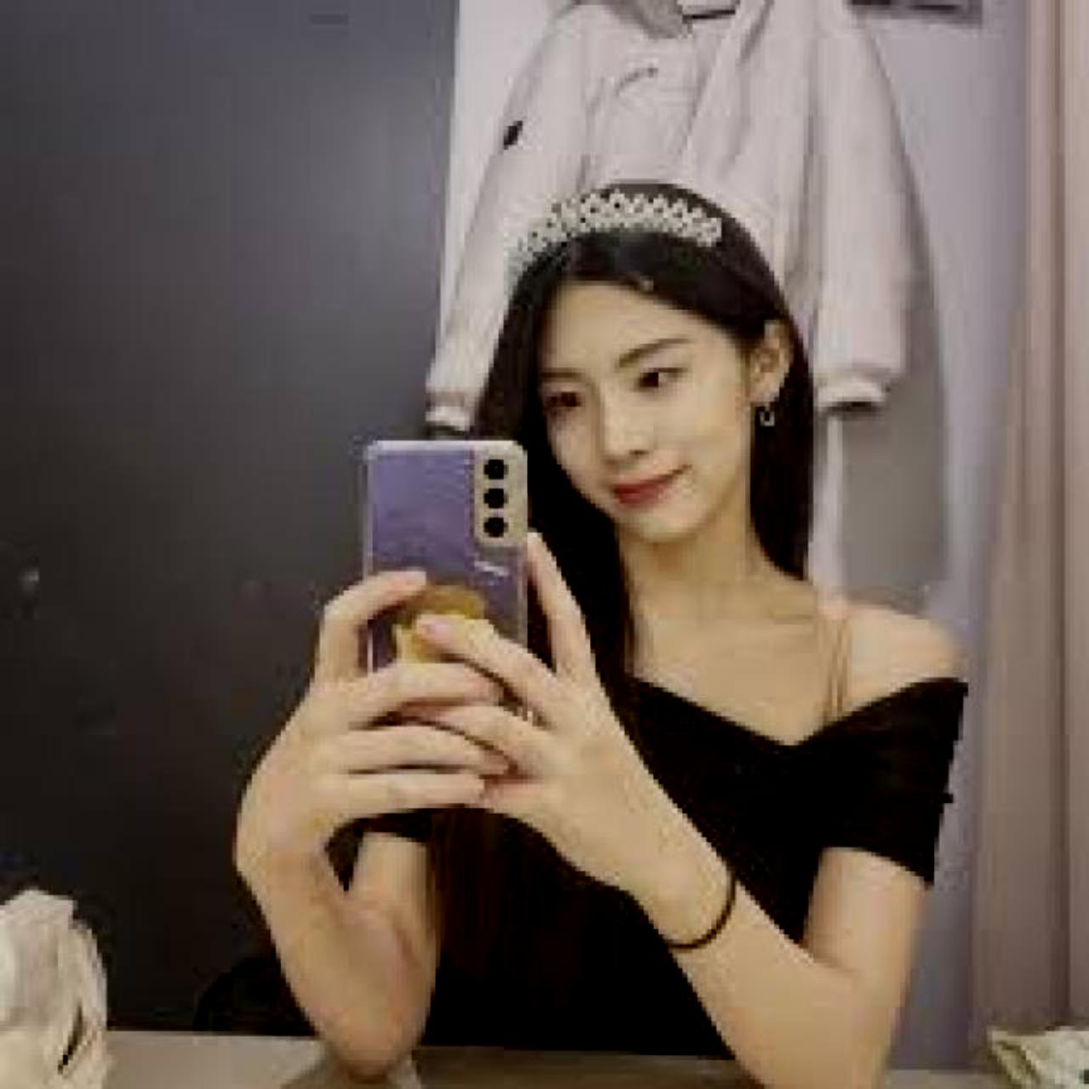phone: (351, 431, 535, 704)
